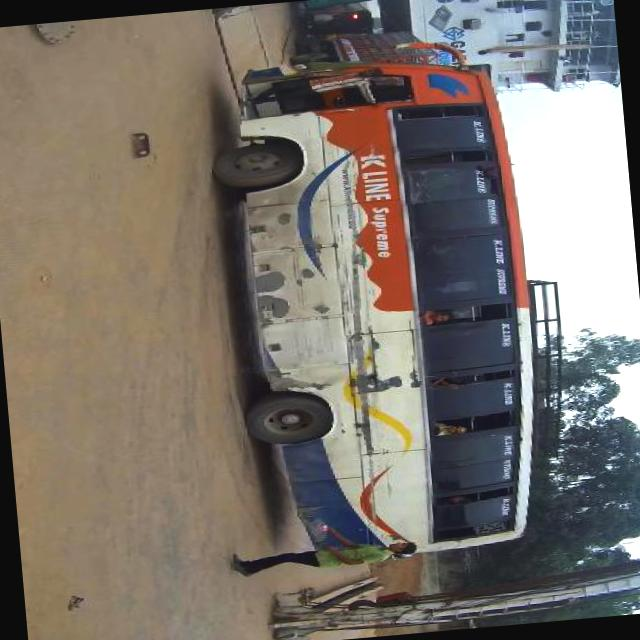bus: (205, 35, 546, 562)
truck: (294, 24, 436, 63)
